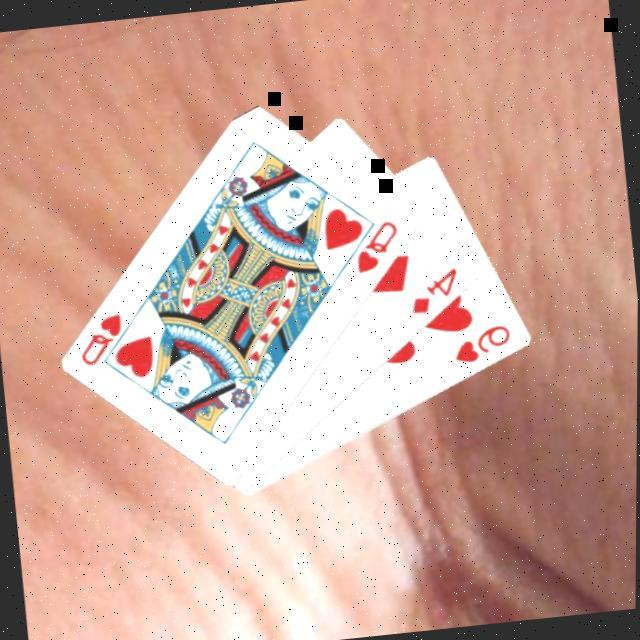4D: (407, 265, 468, 320)
9H: (450, 322, 518, 369)
QH: (75, 308, 146, 372), (350, 218, 407, 279)
